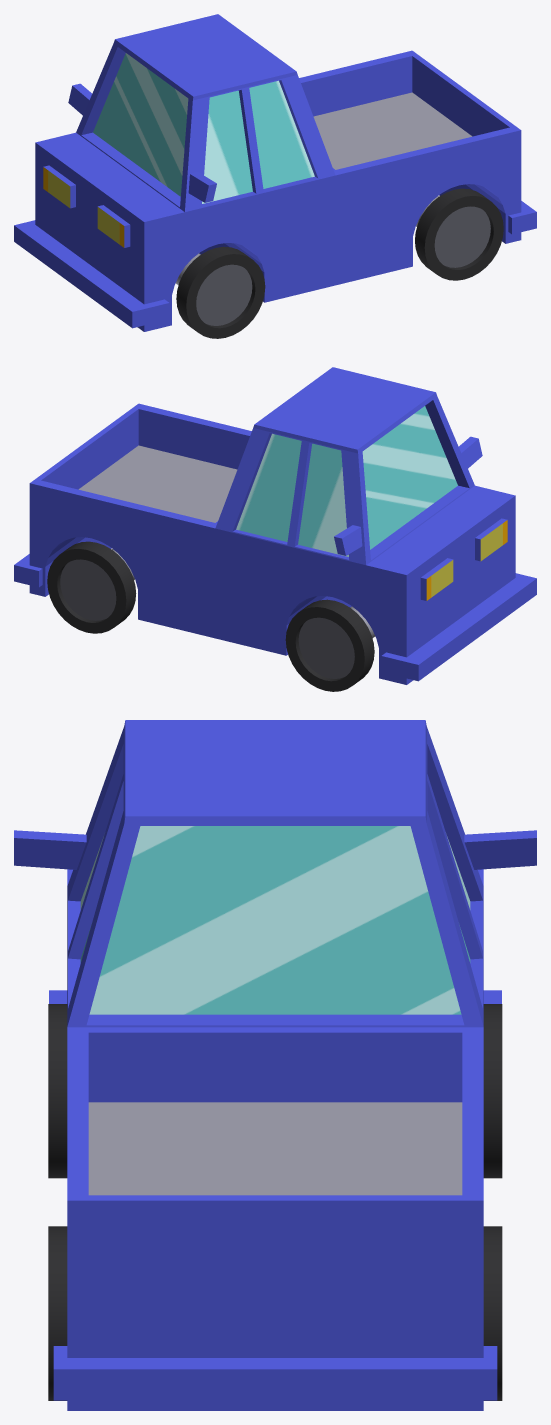
Rendered from Car A.fbx.
The picture shows the model from 3 angles, top to bottom: view 1: azimuth 30°, elevation 25°; view 2: azimuth 150°, elevation 25°; view 3: azimuth 270°, elevation 25°; orthographic projection. The views are drawn at different scales.
Visible parts, largest first — view 1: Body, WFL, WBL; view 2: Body, WBR, WFR; view 3: Body, WFL, WFR, WBL, WBR.
Part boxes in pixels (box(x1,y1,x2,y2)): Body: box(14, 14, 536, 331); WFL: box(176, 246, 265, 338); WBL: box(415, 188, 503, 280); Body: box(14, 367, 536, 684); WBR: box(47, 541, 136, 633); WFR: box(285, 599, 374, 691); Body: box(14, 720, 536, 1410); WFL: box(48, 1004, 67, 1178); WFR: box(483, 1004, 502, 1178); WBL: box(48, 1226, 67, 1400); WBR: box(483, 1226, 502, 1400).
Size of the model in its own units: 431 by 233 by 251.
Materials: 2 (2 with a texture image).
